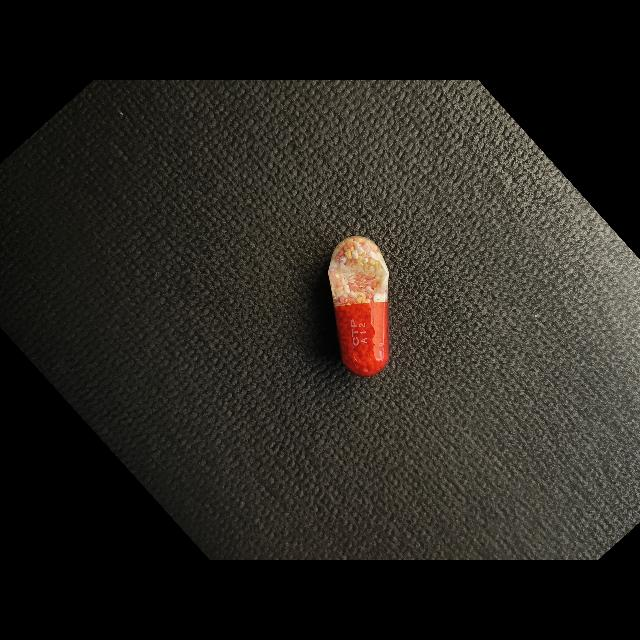Defective Capsule: (328, 236, 389, 376)
